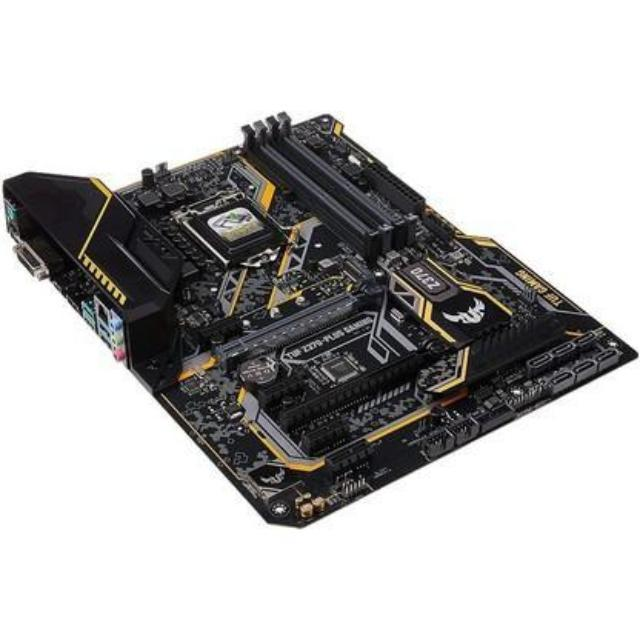Mainboard: (3, 120, 640, 515)
